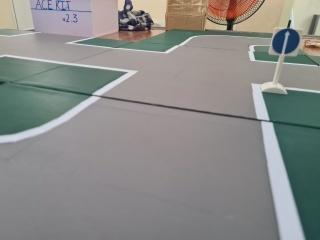straight: (268, 27, 301, 57)
